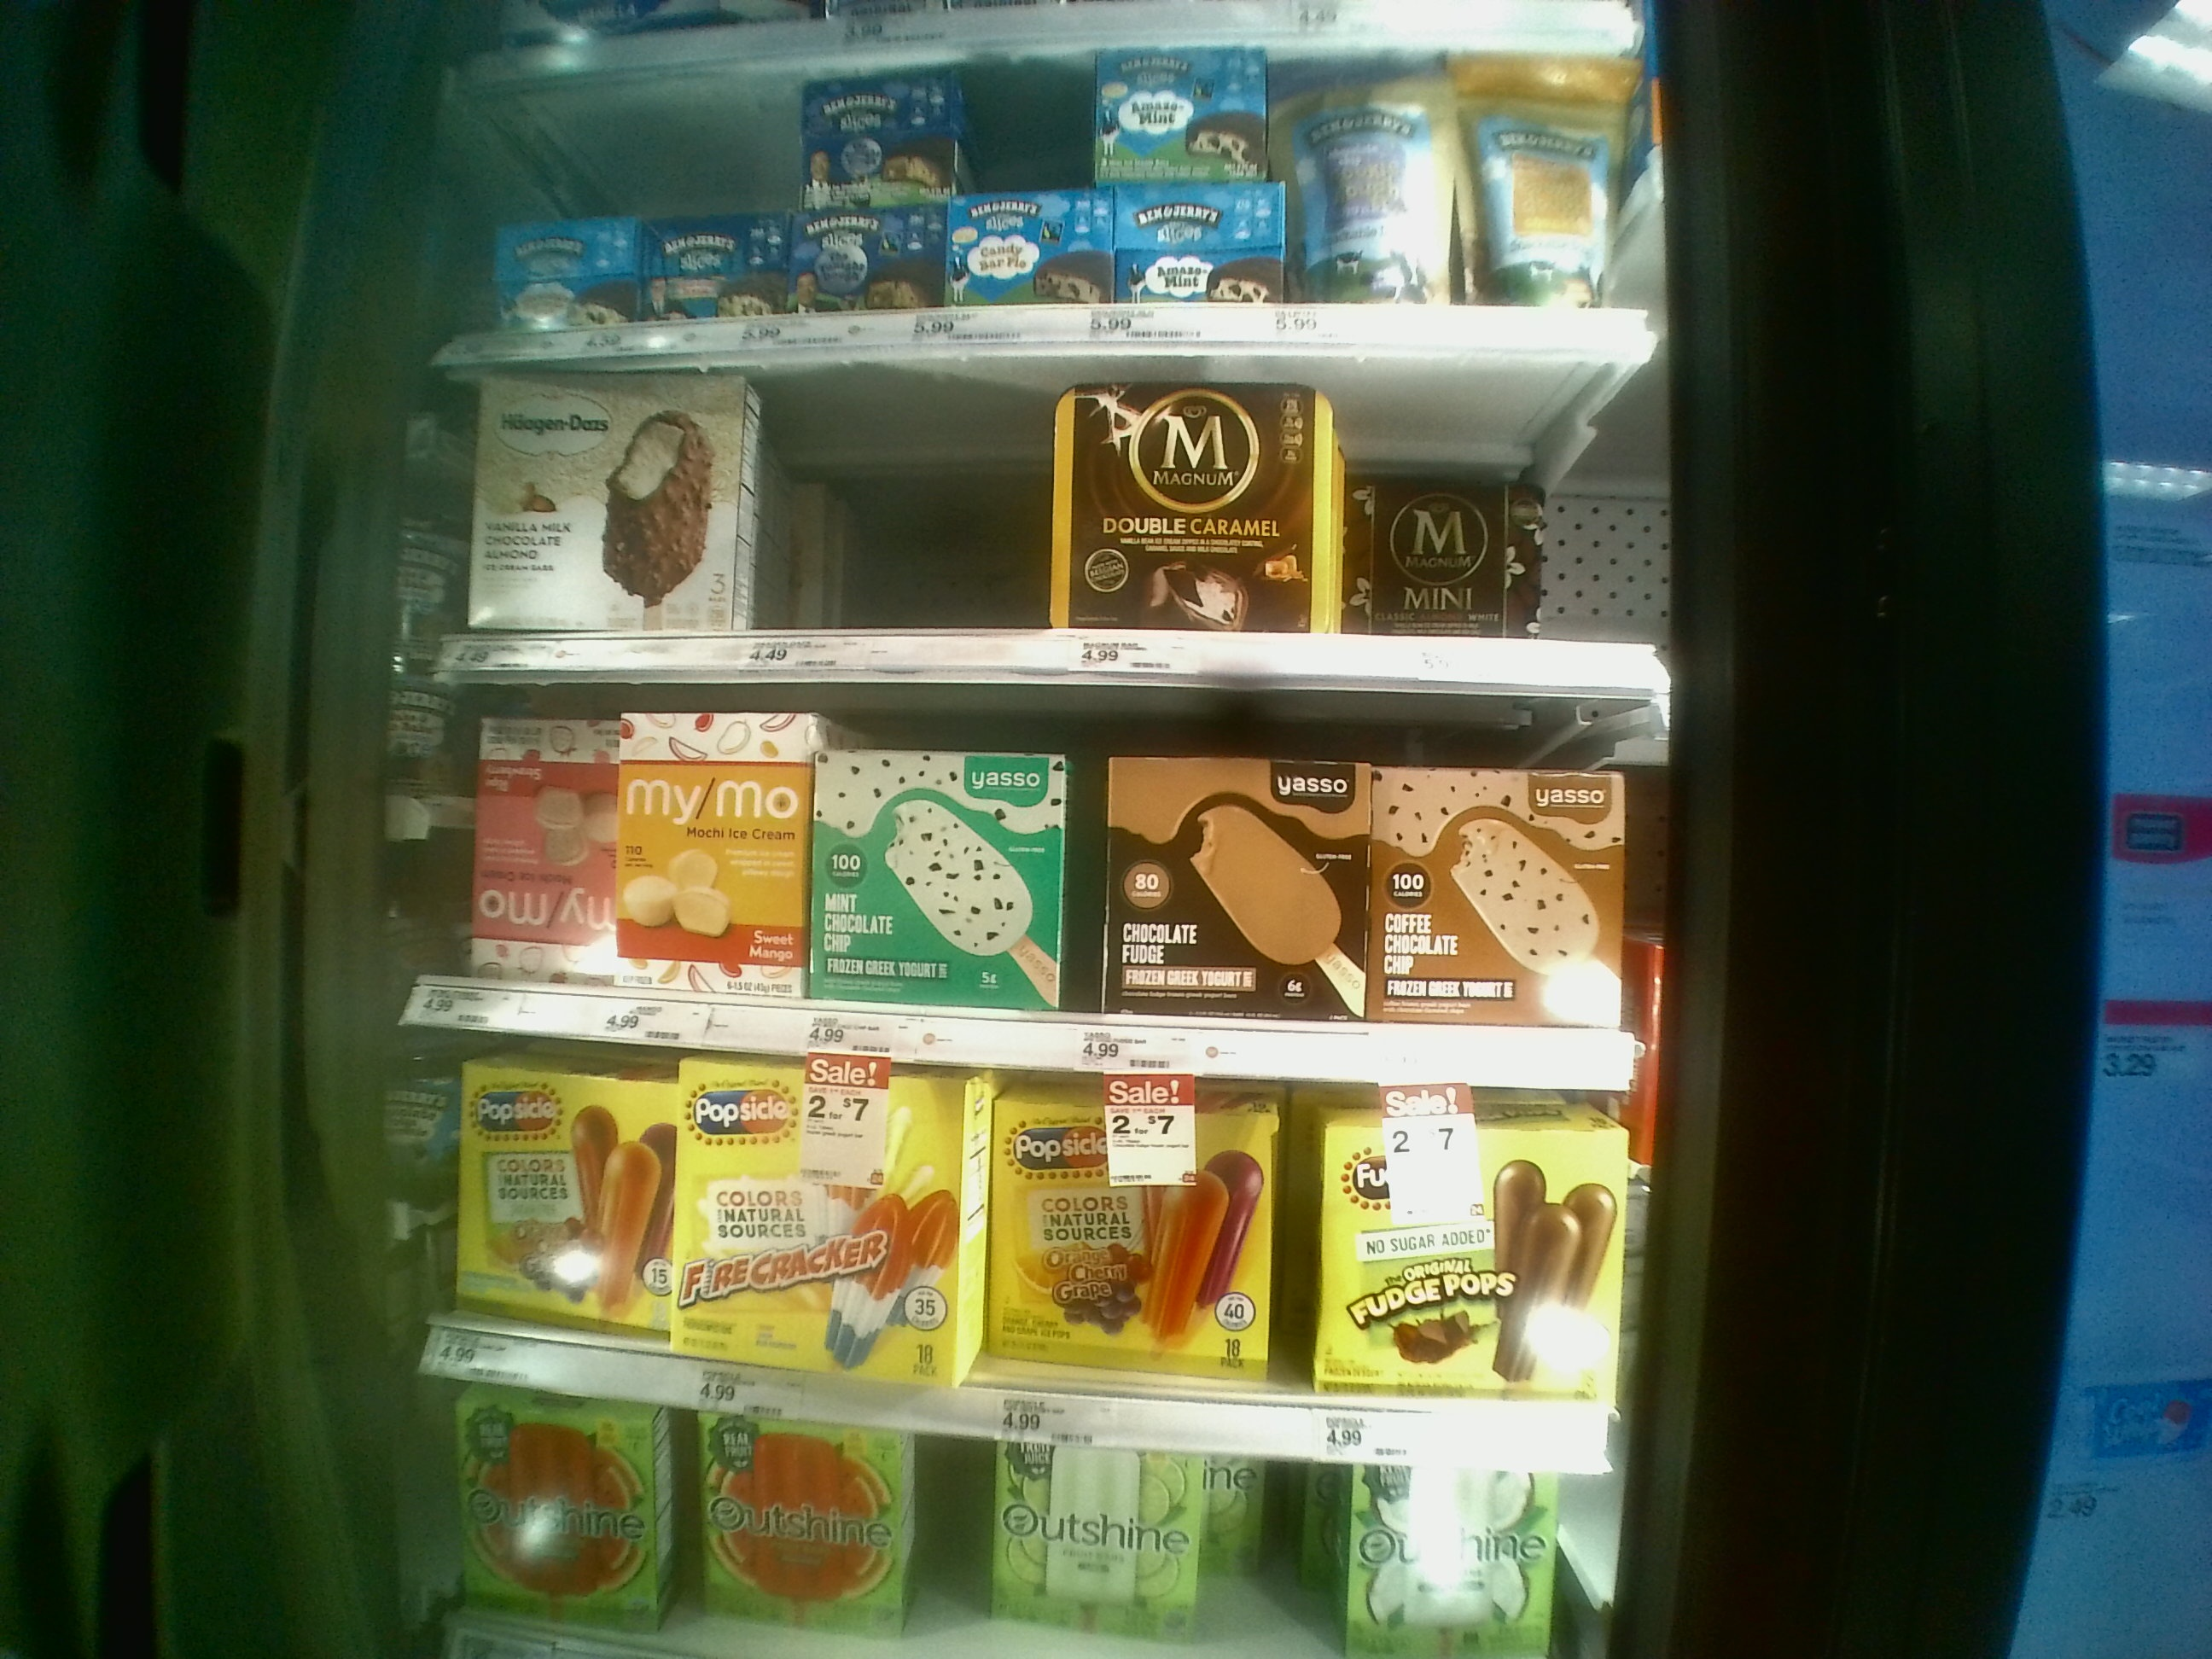shelf: (397, 1047, 1627, 1473), (420, 669, 1658, 1066), (432, 361, 1663, 681), (441, 77, 1660, 359)
